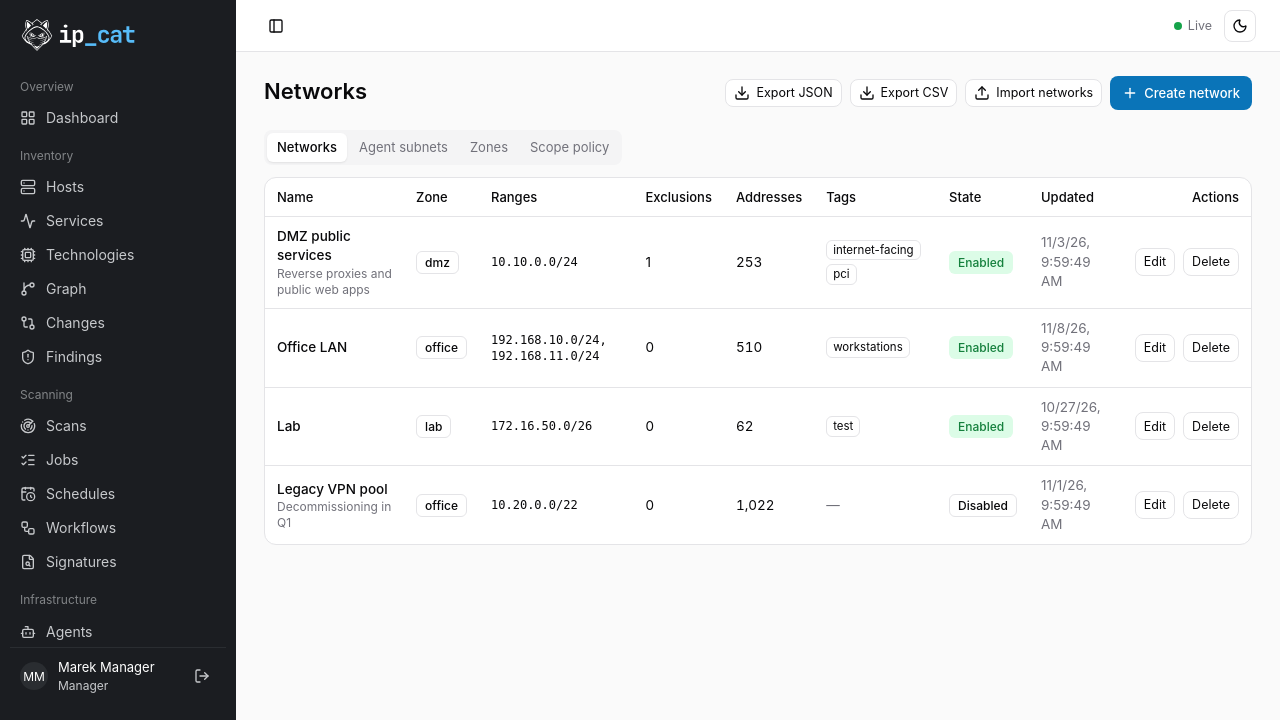
network form › shows server-side ProblemDetails errors on the matching field
Step 1. Click the button "Create network" → [1181, 93], box x1=1110 y1=76 x2=1252 y2=110
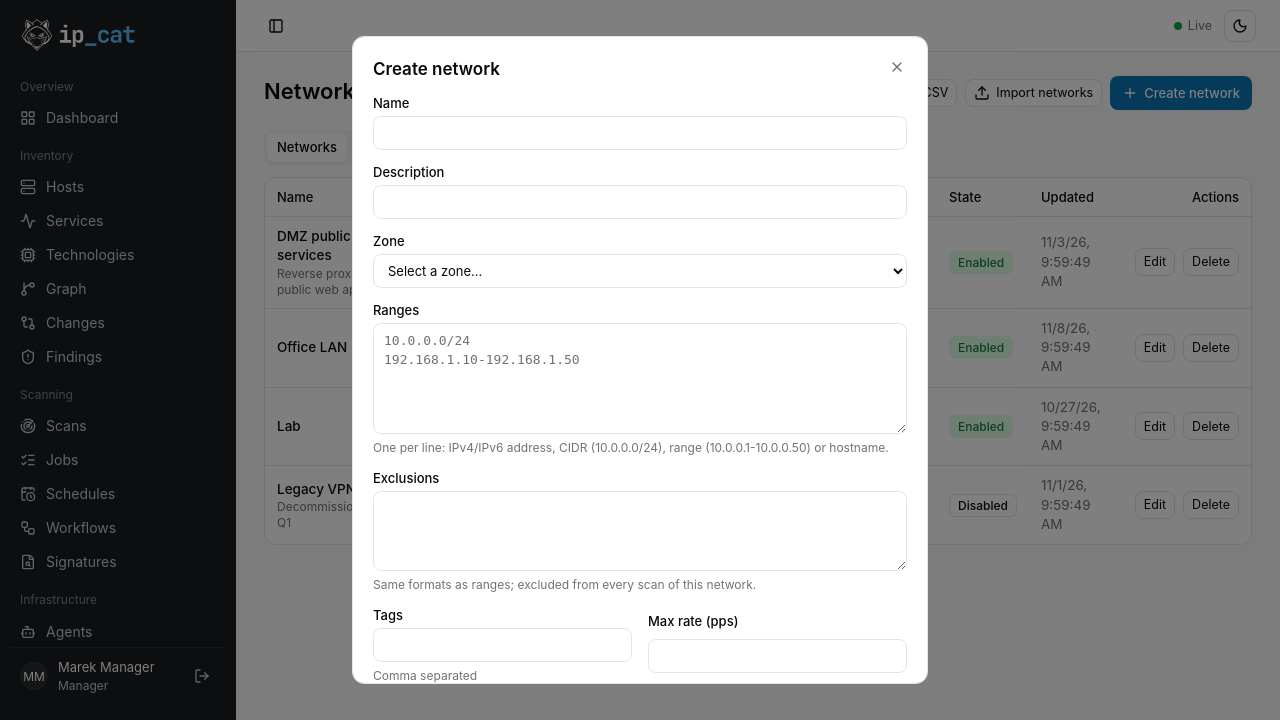
Step 2. Type "Public range" into the field labelled "Name" → [640, 133], box x1=373 y1=116 x2=907 y2=150
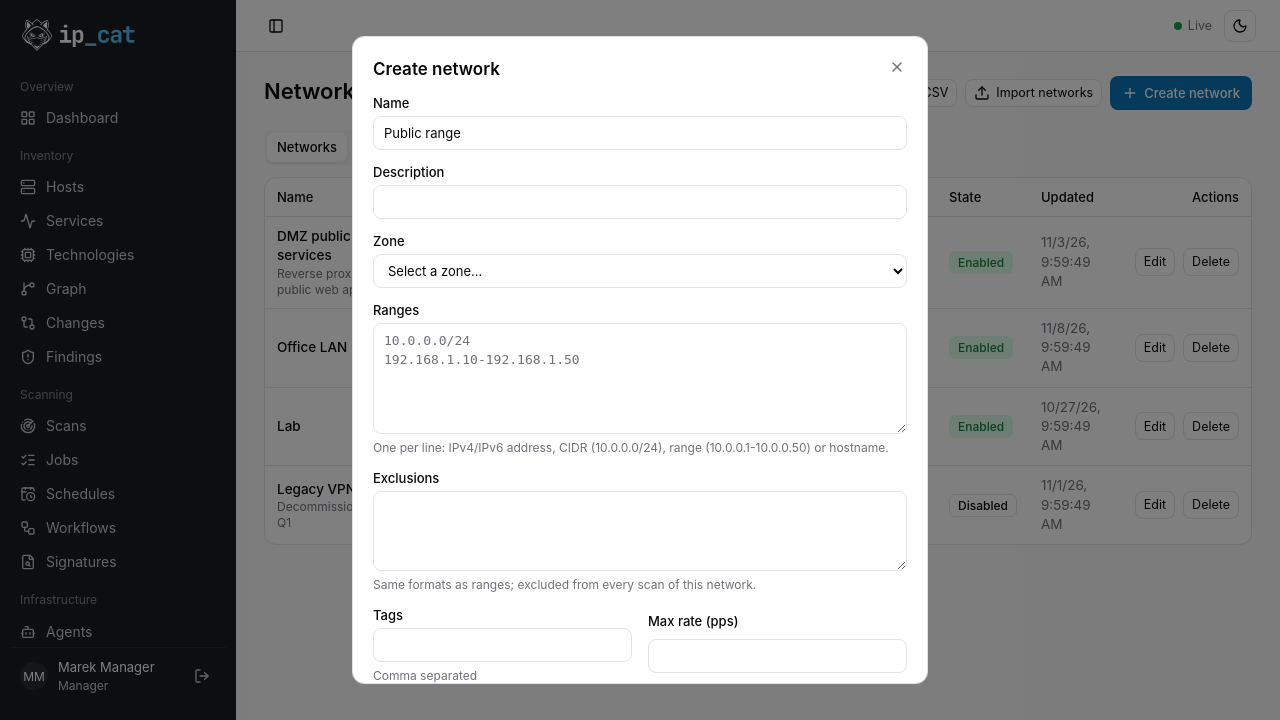
Step 3. Select "dmz" in the dropdown labelled "Zone" → [640, 271], box x1=373 y1=254 x2=907 y2=288
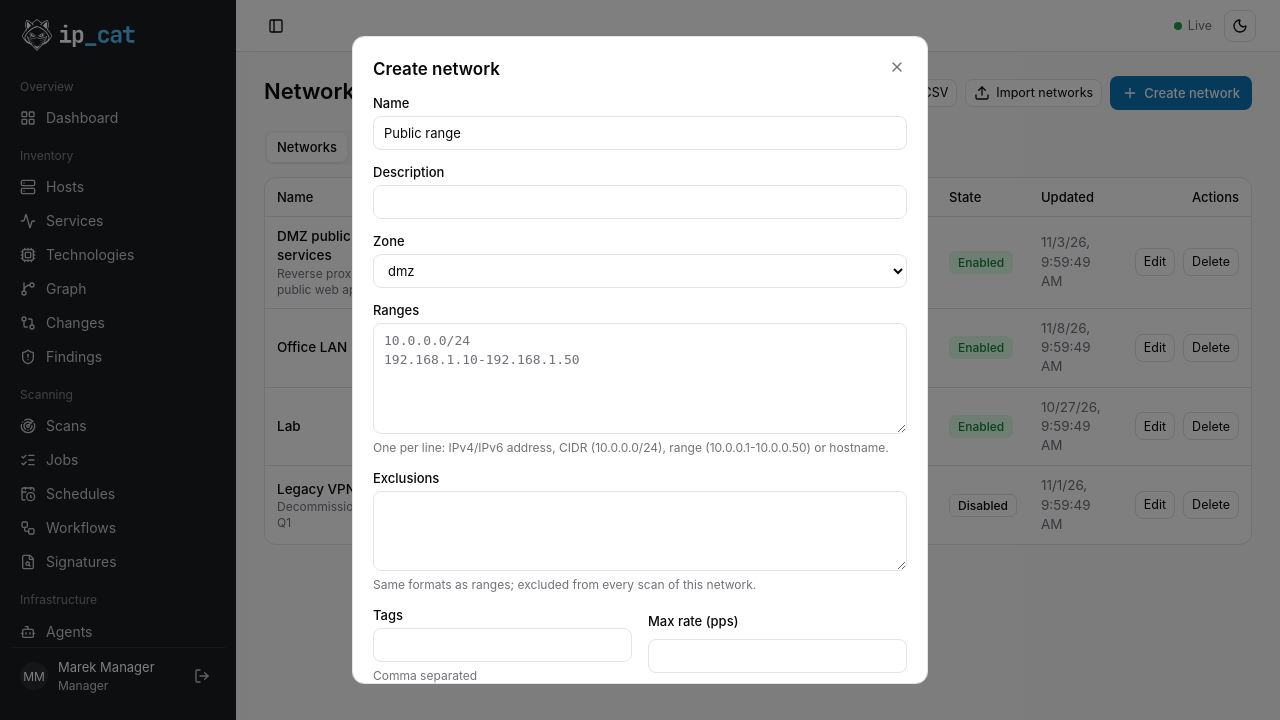
Step 4. Type "8.8.8.0/24" into the text box labelled "Ranges" → [640, 379], box x1=373 y1=323 x2=907 y2=434
(page scrolled)
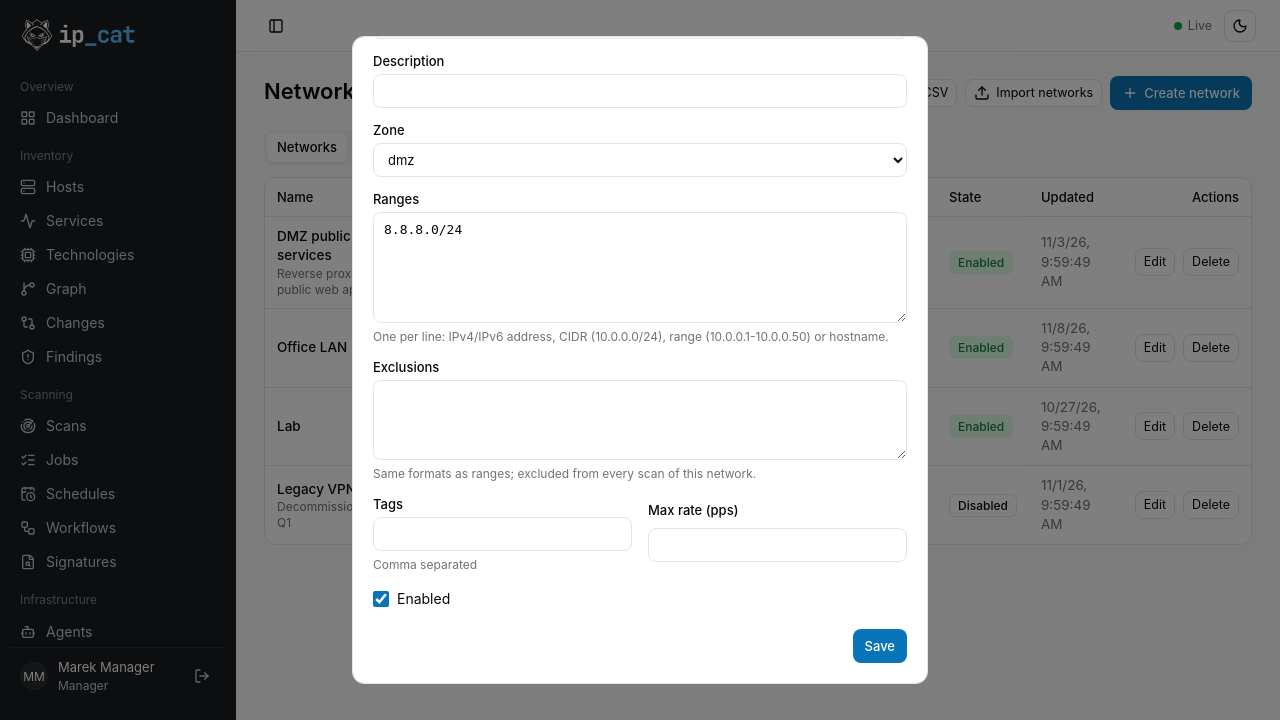
Step 5. Click the button "Save" → [880, 646], box x1=853 y1=629 x2=907 y2=663
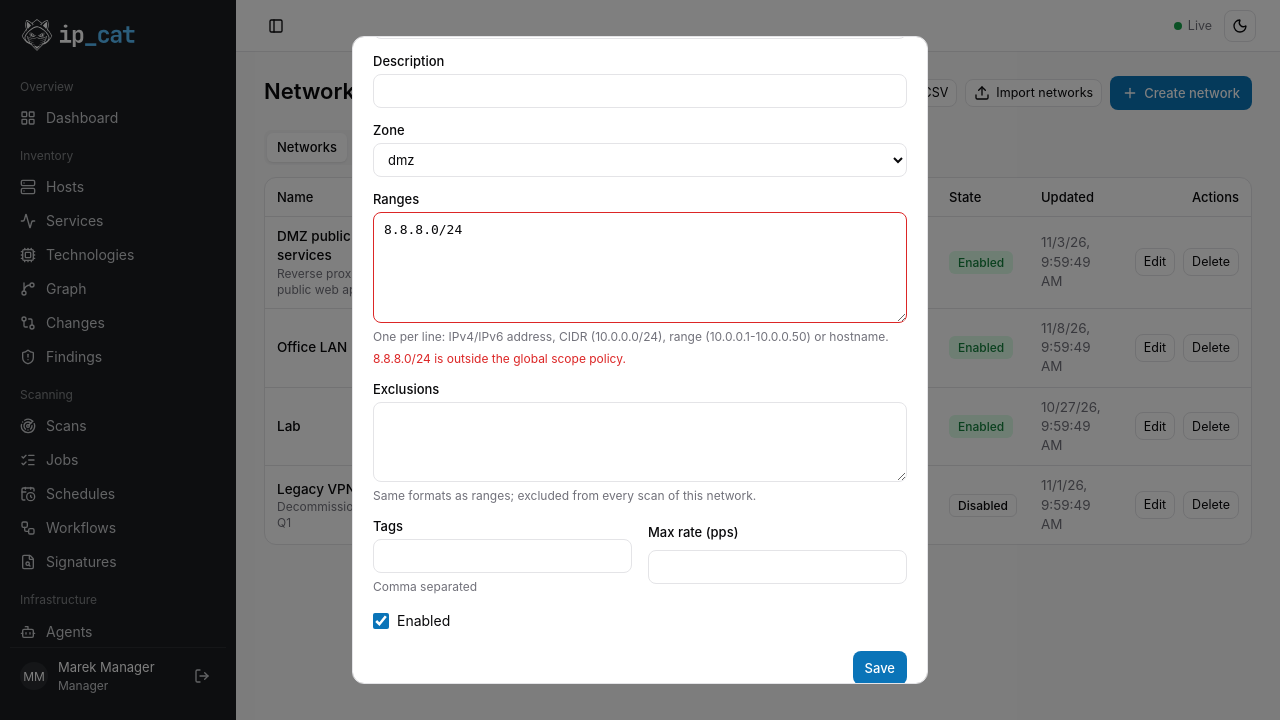
Check: the text "8.8.8.0/24 is outside the global scope policy." is shown, box x1=373 y1=351 x2=626 y2=366
